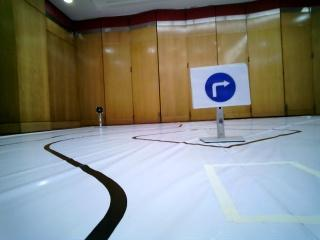right: (189, 70, 252, 106)
